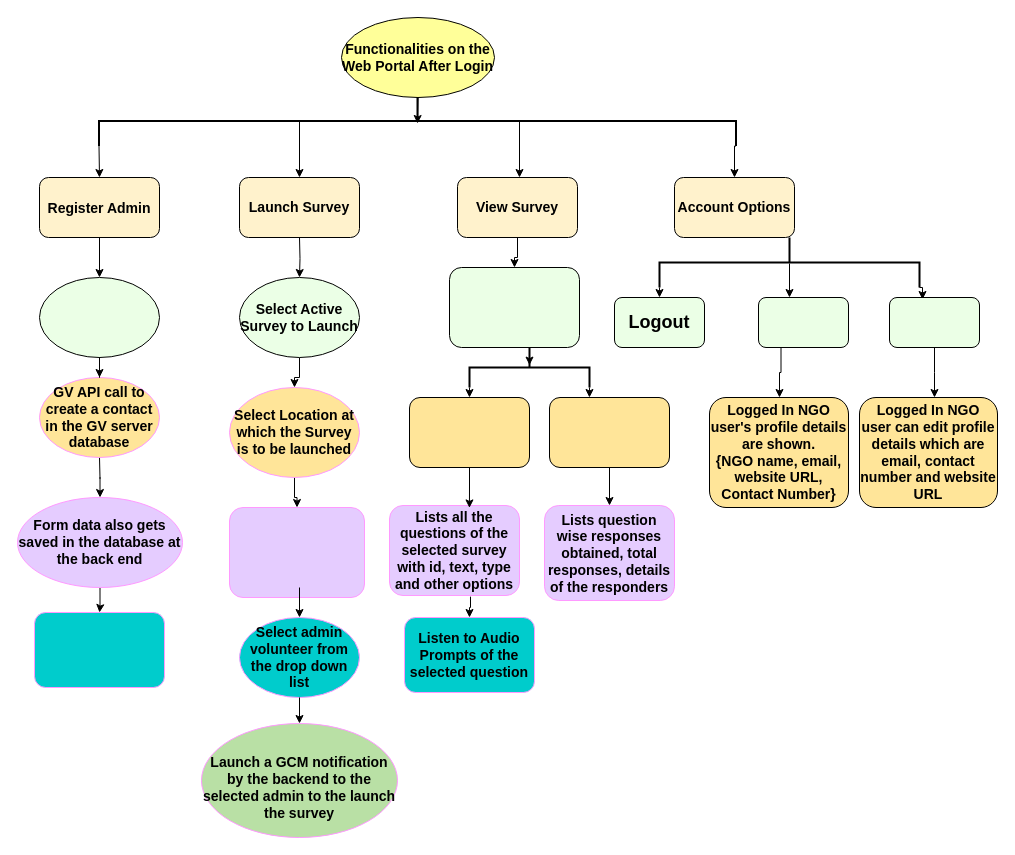
This 1015x855 diagram has some shape labels left out. The shapes that lost their labels are listed below. From the top down, each one's centre as x and y in pixels, then its label:
At (99,317): "Fill User Details in the form and Submit".
At (514,307): "Shows all the Active Surveys with survey ID and Survey name".
At (803,322): "Profile".
At (934,322): "Settings".
At (469,432): "View Survey Questions of the selected survey".
At (609,432): "View Survey Reponses of selected survey".
At (296,552): "All the admin Volunteers at the selected location shown in a dropdown".
At (99,650): "All the details of the new user shown on the webpage".
